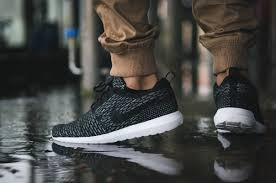nike: (110, 96, 163, 122)
